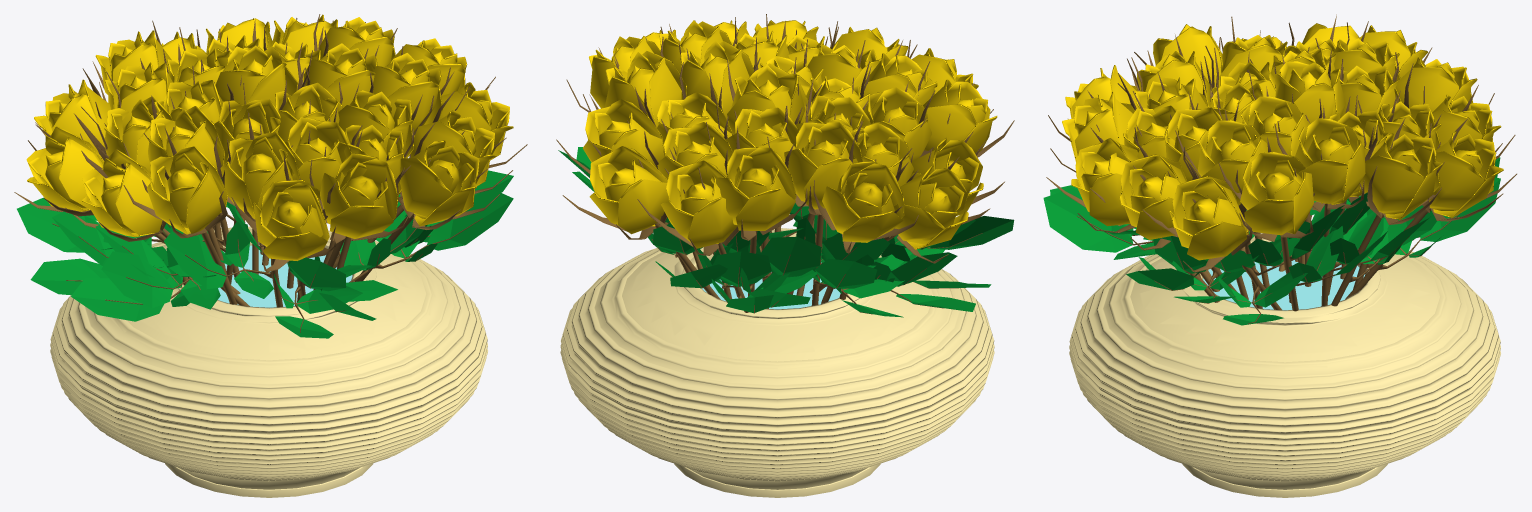
The picture shows the model from 3 angles, left to right: view 1: azimuth 30°, elevation 25°; view 2: azimuth 150°, elevation 25°; view 3: azimuth 270°, elevation 25°; orthographic projection.
Visible parts, largest first — view 1: Material2 (×3), polySurface32, polySurface29, polySurface22, polySurface33, polySurface31, polySurface30, polySurface36, polySurface34, polySurface14, polySurface23, polySurface24 (+21 smaller); view 2: Material2 (×3), polySurface21, polySurface28, polySurface34, polySurface20, polySurface35, polySurface36, polySurface32, polySurface19, polySurface11, polySurface18, polySurface15 (+19 smaller); view 3: Material2 (×3), polySurface25, polySurface27, polySurface19, polySurface15, polySurface28, polySurface30, polySurface26, polySurface16, polySurface29, polySurface8, polySurface7 (+20 smaller).
Part boxes in pixels (bbox=[...]): Material2 (×3): bbox=[50, 226, 487, 497]; polySurface32: bbox=[101, 127, 237, 309]; polySurface29: bbox=[354, 128, 513, 281]; polySurface22: bbox=[164, 110, 310, 307]; polySurface33: bbox=[65, 133, 249, 321]; polySurface31: bbox=[231, 155, 362, 338]; polySurface30: bbox=[309, 130, 410, 320]; polySurface36: bbox=[14, 106, 240, 295]; polySurface34: bbox=[17, 68, 164, 252]; polySurface14: bbox=[260, 99, 371, 301]; polySurface23: bbox=[95, 96, 233, 303]; polySurface24: bbox=[52, 91, 188, 285]; Material2 (×3): bbox=[560, 228, 994, 497]; polySurface21: bbox=[698, 126, 816, 307]; polySurface28: bbox=[562, 131, 733, 299]; polySurface34: bbox=[813, 136, 918, 317]; polySurface20: bbox=[767, 103, 888, 305]; polySurface35: bbox=[637, 148, 789, 313]; polySurface36: bbox=[809, 148, 990, 311]; polySurface32: bbox=[918, 61, 1014, 249]; polySurface19: bbox=[556, 89, 702, 272]; polySurface11: bbox=[706, 107, 823, 308]; polySurface18: bbox=[638, 112, 771, 299]; polySurface15: bbox=[572, 41, 709, 285]; Material2 (×3): bbox=[1069, 233, 1500, 497]; polySurface25: bbox=[1218, 137, 1387, 311]; polySurface27: bbox=[1142, 157, 1307, 325]; polySurface19: bbox=[1331, 118, 1443, 306]; polySurface15: bbox=[1274, 105, 1430, 306]; polySurface28: bbox=[1345, 118, 1516, 299]; polySurface30: bbox=[1043, 73, 1219, 291]; polySurface26: bbox=[1090, 137, 1258, 303]; polySurface16: bbox=[1175, 109, 1344, 308]; polySurface29: bbox=[1046, 127, 1219, 302]; polySurface8: bbox=[1217, 86, 1369, 302]; polySurface7: bbox=[1249, 56, 1357, 286].
Bounding box in the file's own units: 0.6592 × 0.5584 × 0.6186.
